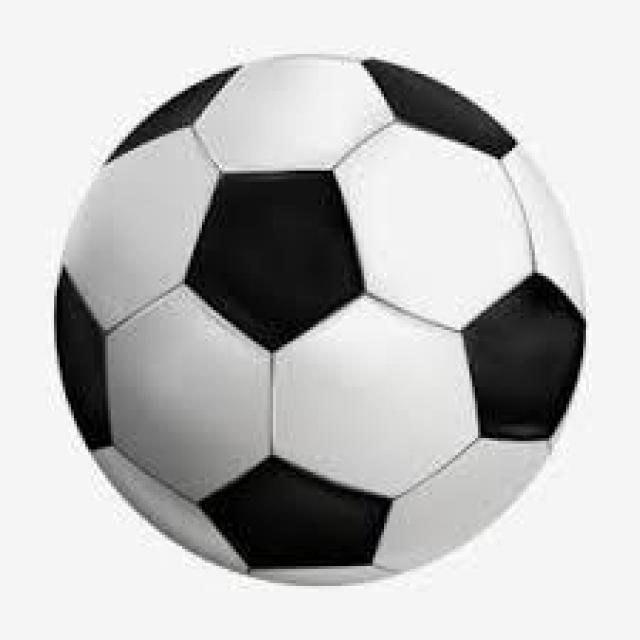Soccer Ball: (57, 51, 586, 586)
